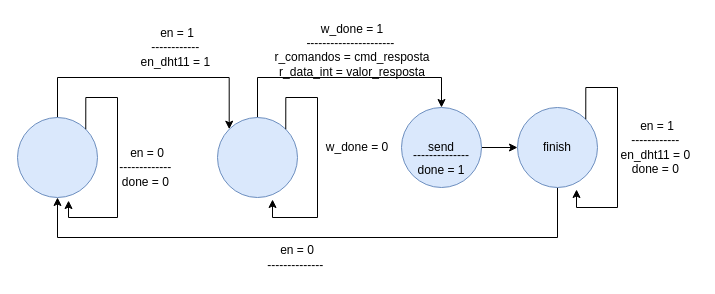
The diagram is 715 pixels wide and 294 high, and some of its shapes have lost their labels. The centre of each missing label's shape, as x and y in pixels:
"idle" belongs at pixel 57 157.
"read" belongs at pixel 257 157.
